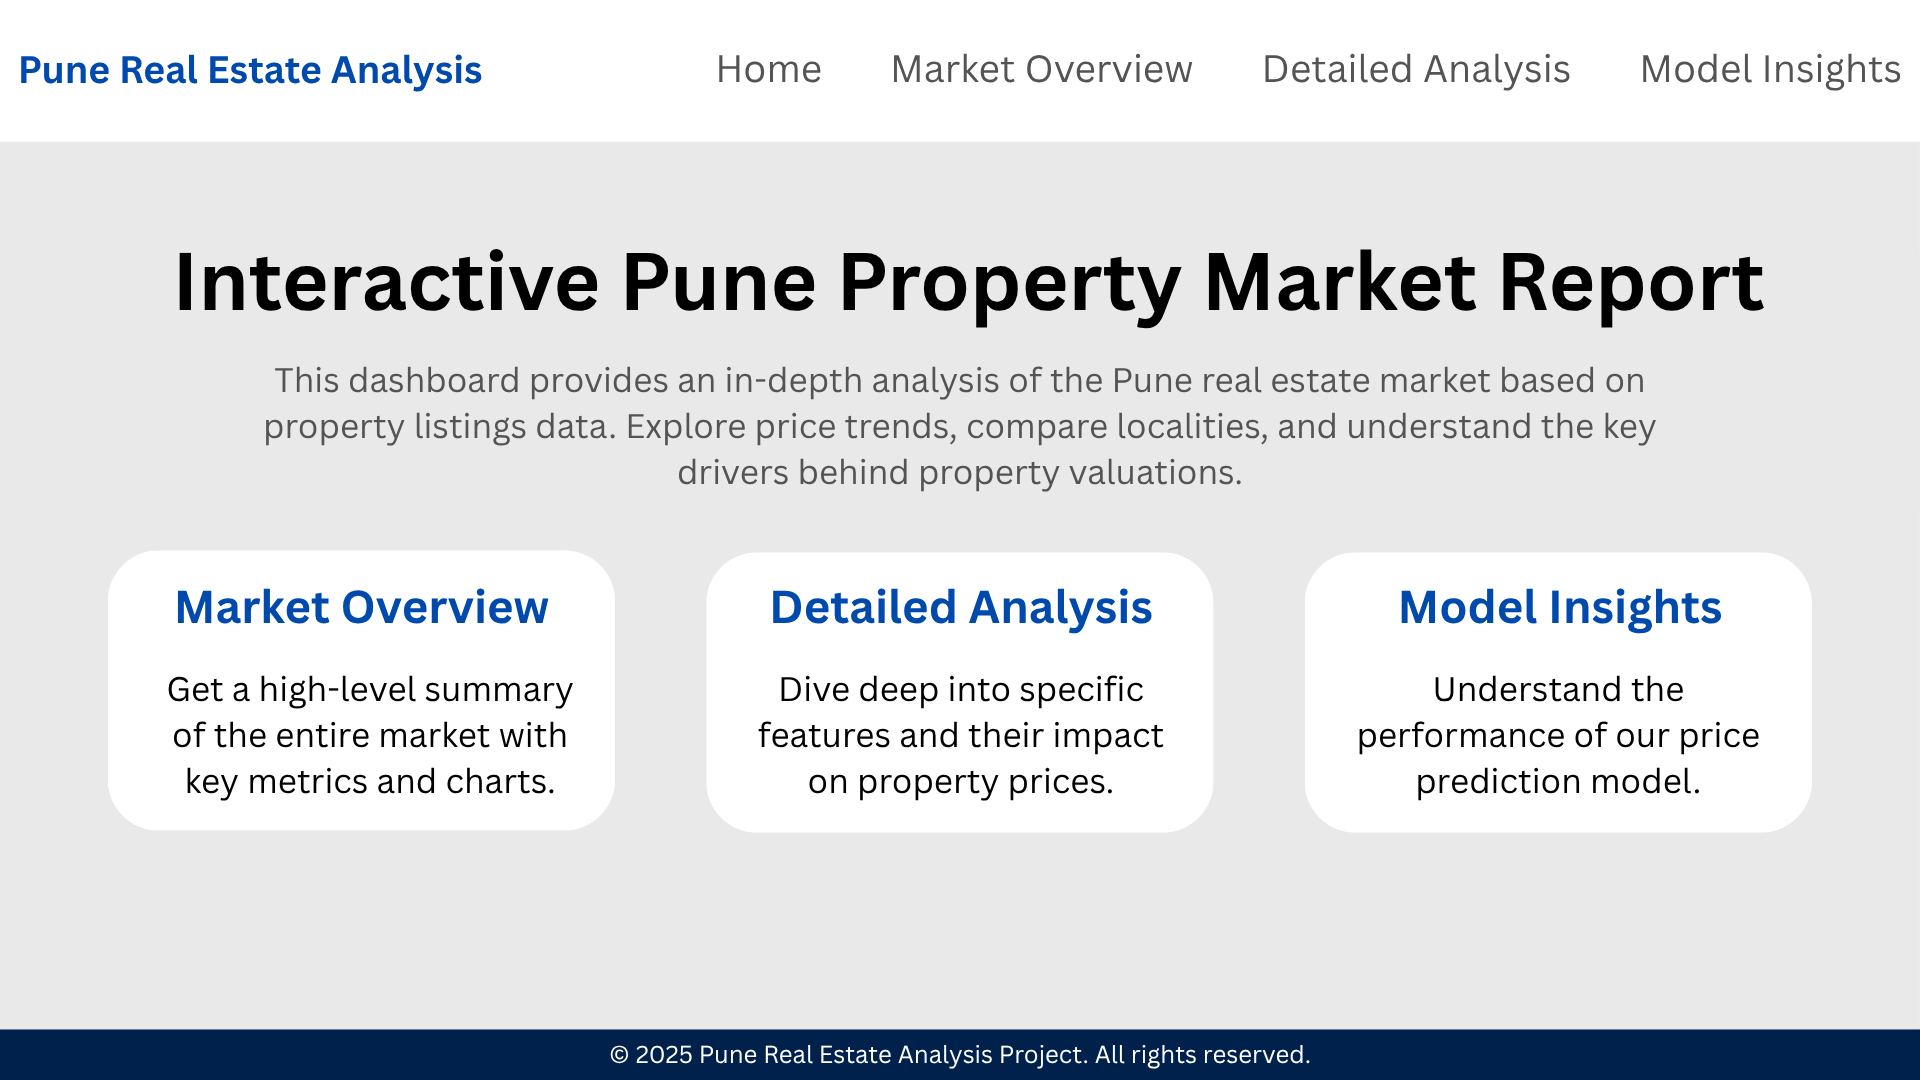

This screenshot's page, from the dashboard's own definition file:
{"tool":"powerbi","page":{"name":"Home","canvas":[1280,720],"ordinal":0},"visuals":[{"type":"shape","box":[0,94.3,1279.7,626.5],"z":0},{"type":"actionButton","box":[839.7,122.6,209.2,40.4],"z":1000},{"type":"actionButton","box":[1090.7,122.6,177.5,40.4],"z":2000},{"type":"shape","box":[0,0,1279.7,93.8],"z":3000},{"type":"textbox","box":[21.6,27.4,292.9,40.4],"z":4000},{"type":"pageNavigator","box":[558.3,23.1,708.4,40.4],"z":5000},{"type":"textbox","box":[0,163,1279.7,79.4],"z":6000},{"type":"textbox","box":[215,242.4,851.2,98.1],"z":7000},{"type":"shape","box":[473.2,360.7,334.7,183.2],"z":8000},{"type":"shape","box":[898.8,360.7,334.7,183.2],"z":9000},{"type":"shape","box":[47.6,360.7,334.7,183.2],"z":10000},{"type":"textbox","box":[98.1,375.1,236.6,49.1],"z":11000},{"type":"textbox","box":[62,424.2,303,92.3],"z":12000},{"type":"textbox","box":[522.3,375.1,236.6,49.1],"z":13000},{"type":"textbox","box":[947.9,375.1,236.6,49.1],"z":14000},{"type":"textbox","box":[489.1,424.2,303,92.3],"z":15000},{"type":"textbox","box":[914.7,424.2,303,92.3],"z":16000},{"type":"shape","box":[0,673.8,1279.7,46.2],"z":17000},{"type":"textbox","box":[417,679.5,445.8,33.2],"z":18000},{"type":"actionButton","box":[50.8,362.7,333.9,183.1],"z":19000},{"type":"actionButton","box":[472.9,362.7,335.6,183.1],"z":20000},{"type":"actionButton","box":[898.3,361,335.6,183.1],"z":21000}]}

Visuals, with their boxes in screenshot pixels (x1, y1, x2, y2), scaled from the page's 1280x720 canvas onto the 1920x1080 screenshot:
shape: select_region(0, 141, 1919, 1079)
actionButton: select_region(1260, 184, 1573, 244)
actionButton: select_region(1636, 184, 1902, 244)
shape: select_region(0, 0, 1919, 141)
textbox: select_region(32, 41, 472, 102)
pageNavigator: select_region(837, 35, 1900, 95)
textbox: select_region(0, 244, 1919, 364)
textbox: select_region(322, 364, 1599, 511)
shape: select_region(710, 541, 1212, 816)
shape: select_region(1348, 541, 1850, 816)
shape: select_region(71, 541, 573, 816)
textbox: select_region(147, 563, 502, 636)
textbox: select_region(93, 636, 548, 775)
textbox: select_region(783, 563, 1138, 636)
textbox: select_region(1422, 563, 1777, 636)
textbox: select_region(734, 636, 1188, 775)
textbox: select_region(1372, 636, 1827, 775)
shape: select_region(0, 1011, 1919, 1079)
textbox: select_region(626, 1019, 1294, 1069)
actionButton: select_region(76, 544, 577, 819)
actionButton: select_region(709, 544, 1213, 819)
actionButton: select_region(1347, 542, 1851, 816)
